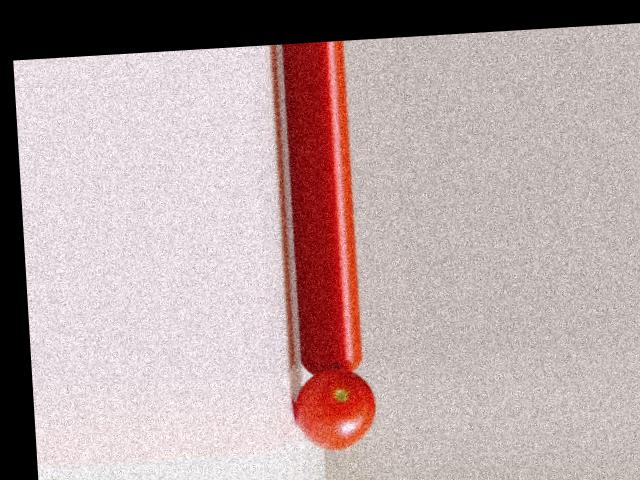tomato: (293, 367, 377, 452)
